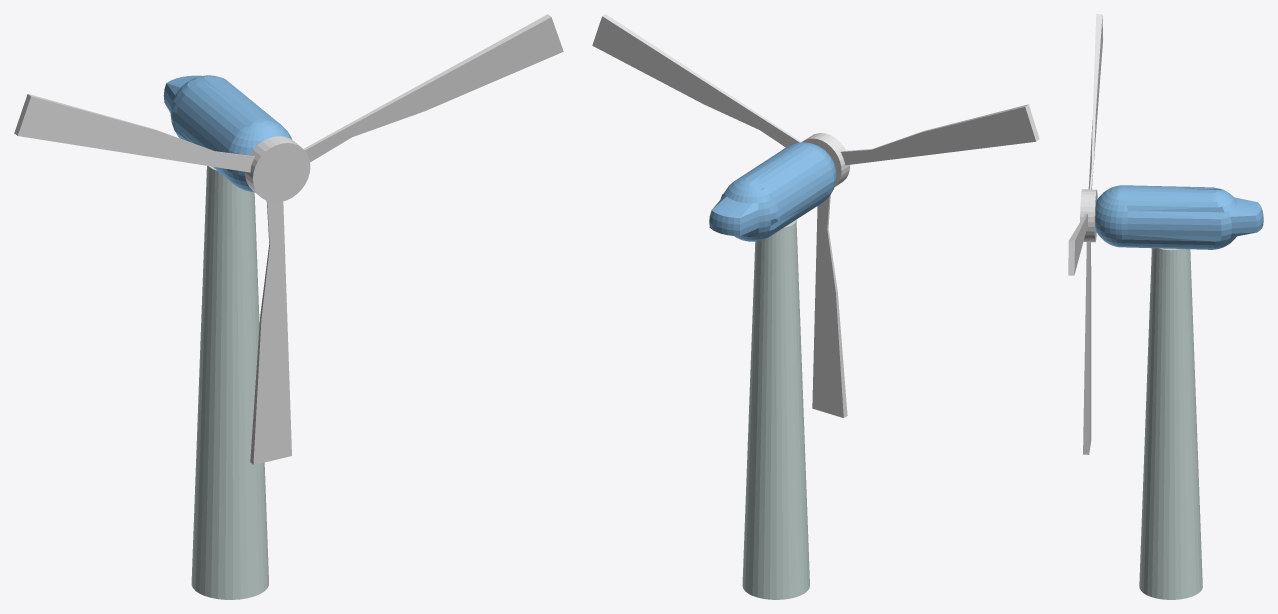
File: plta.glb
The picture shows the model from 3 angles, left to right: view 1: azimuth 30°, elevation 25°; view 2: azimuth 150°, elevation 25°; view 3: azimuth 270°, elevation 25°; orthographic projection. The views are drawn at different scales.
Parts seen in each view (by area): view 1: kaki kipas, kipas, body kipas; view 2: kaki kipas, kipas, body kipas; view 3: kaki kipas, body kipas, kipas.
Boxes of the visible parts, box(x1,y1,x2,y2) form: kaki kipas: box(191, 166, 268, 599); kipas: box(14, 14, 563, 464); body kipas: box(163, 75, 292, 192); kaki kipas: box(742, 219, 809, 599); kipas: box(592, 14, 1039, 417); body kipas: box(709, 142, 836, 241); kaki kipas: box(1139, 248, 1202, 599); body kipas: box(1095, 185, 1263, 249); kipas: box(1068, 14, 1102, 454).
Bounding box in the file's own units: 15.94 × 16.72 × 6.25.
